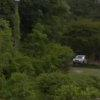Tree: (32, 12, 72, 72)
